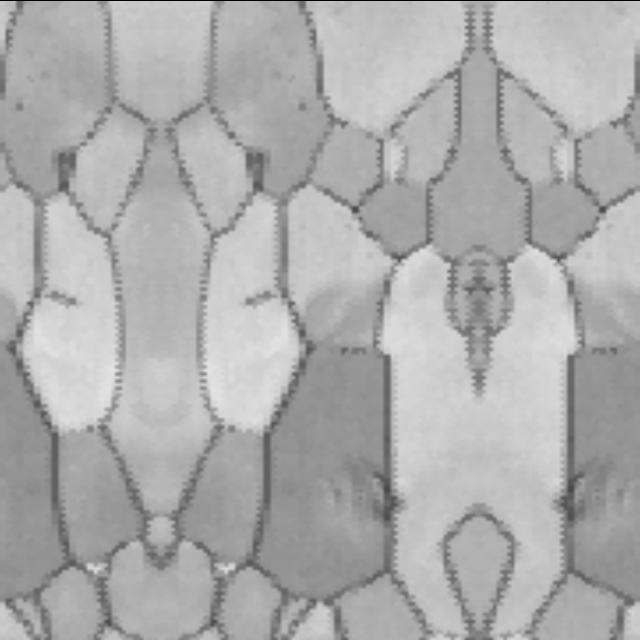good_void: (356, 466, 408, 541), (552, 466, 604, 541), (240, 285, 277, 308), (46, 285, 83, 308), (300, 101, 310, 117), (14, 101, 24, 117)
